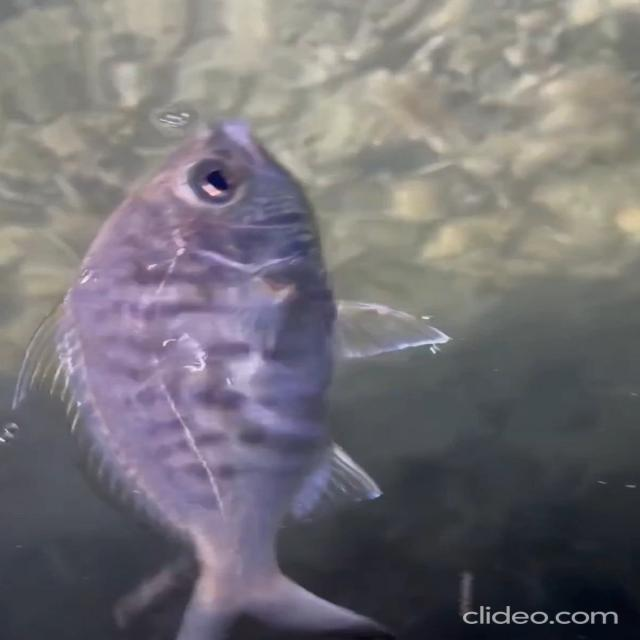fish: (7, 115, 456, 640)
